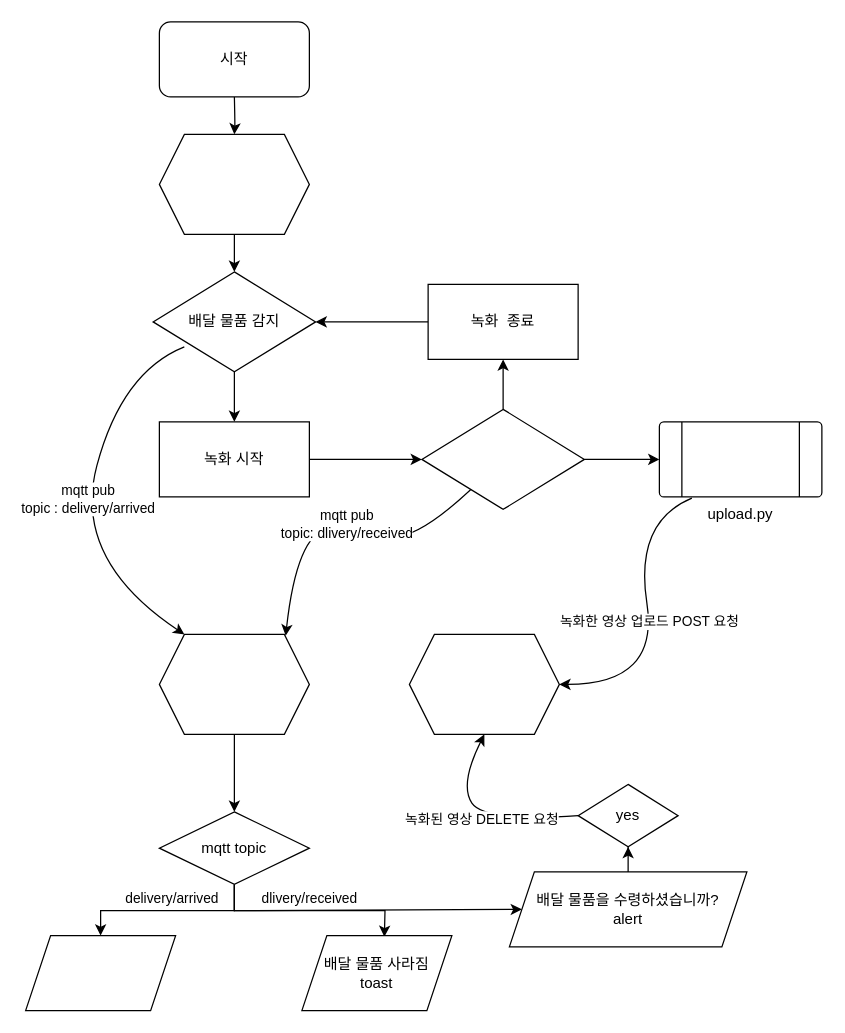
This 845x1033 diagram has some shape labels left out. Each missing label, with the centre of its shape:
express 서버: (483,683)
Raspbian detect.py: (233,183)
webOS com.delivery.app: (233,683)
배달 물품 도착 toast: (100,972)
배달 물품 사라짐: (502,458)
